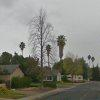Palm tree: (32, 14, 75, 66)
